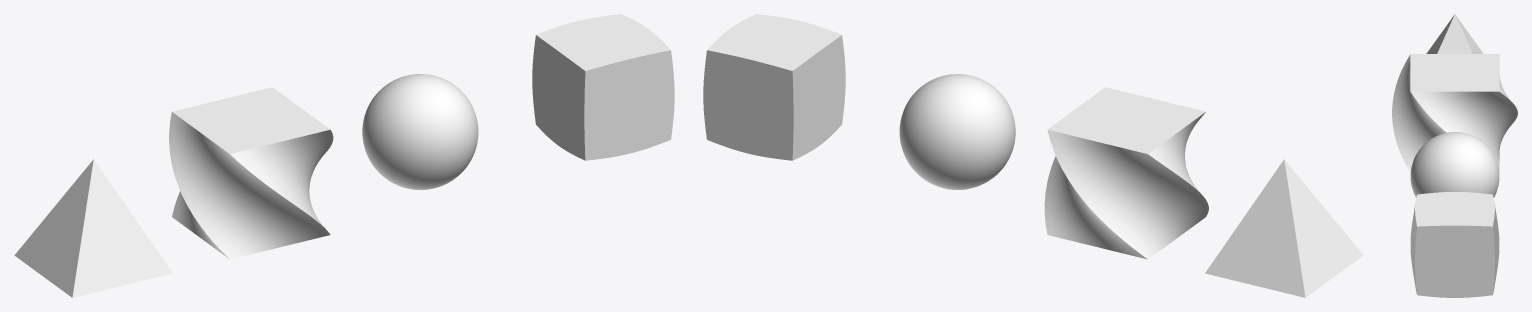
Rendered from shapeDeformTest.fbx.
3 renders of one model, left to right at view 1: azimuth 30°, elevation 25°; view 2: azimuth 150°, elevation 25°; view 3: azimuth 270°, elevation 25°, orthographic. The views are drawn at different scales.
Parts seen in each view (by area): view 1: Box004, Box002, Box005, Box003; view 2: Box004, Box002, Box005, Box003; view 3: Box004, Box002, Box003, Box005.
Boxes of the visible parts, x1,y1,x2,y2 form: Box004: (169, 87, 333, 259); Box002: (532, 14, 674, 160); Box005: (14, 159, 172, 297); Box003: (362, 74, 478, 189); Box004: (1044, 87, 1208, 259); Box002: (703, 14, 845, 160); Box005: (1205, 159, 1363, 297); Box003: (899, 74, 1015, 189); Box004: (1392, 54, 1517, 171); Box002: (1410, 192, 1499, 297); Box003: (1410, 132, 1499, 197); Box005: (1426, 14, 1483, 53).
Bounding box in the file's own units: 119 × 19.69 × 27.8.
1 material, 1 textured.
